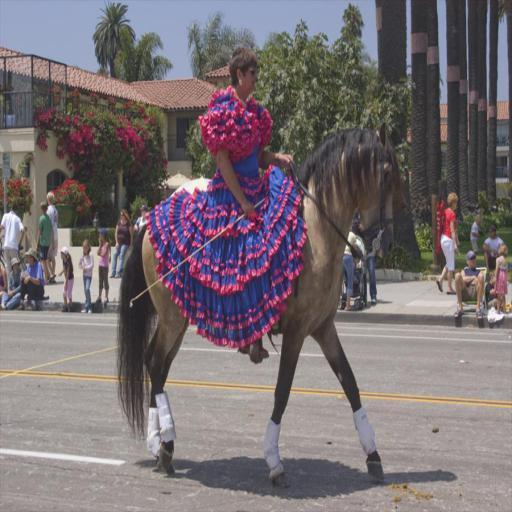horse: (115, 118, 407, 490)
